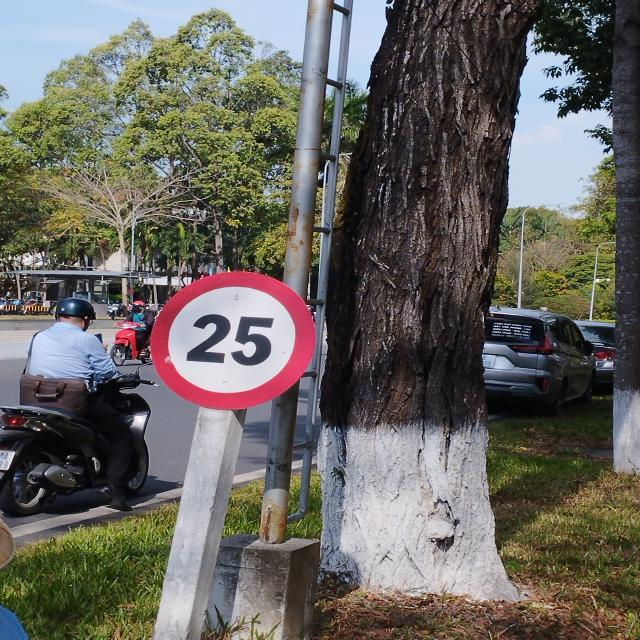Tre_Em: (152, 272, 317, 407)
